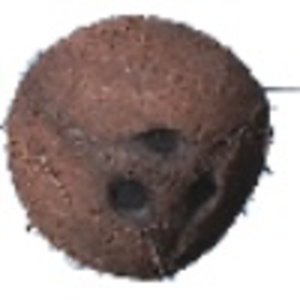coco: (1, 15, 300, 282)
